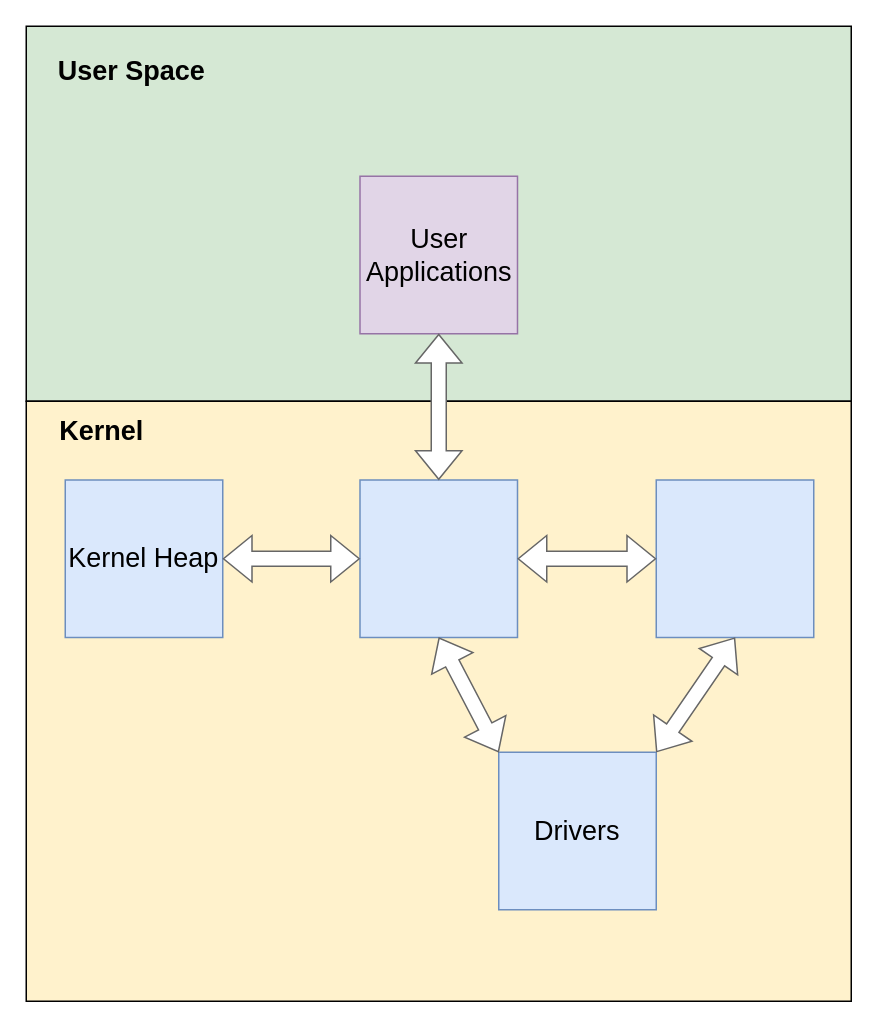
Some shapes in this 878 by 1028 pixel diagram are drawn without their labels. The shapes that lost their labels are listed below. From the top down, each one's centre as x and y in pixels, then its label:
(x=438, y=558): Virtual Memory Manager
(x=734, y=558): Physical Memory Manager
